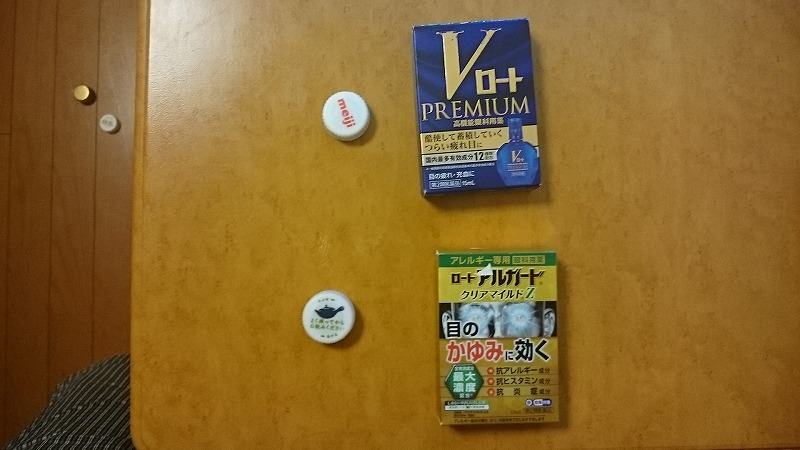A: (298, 284, 365, 353)
B: (317, 93, 380, 142)
C: (428, 245, 568, 429)
D: (409, 15, 549, 202)
